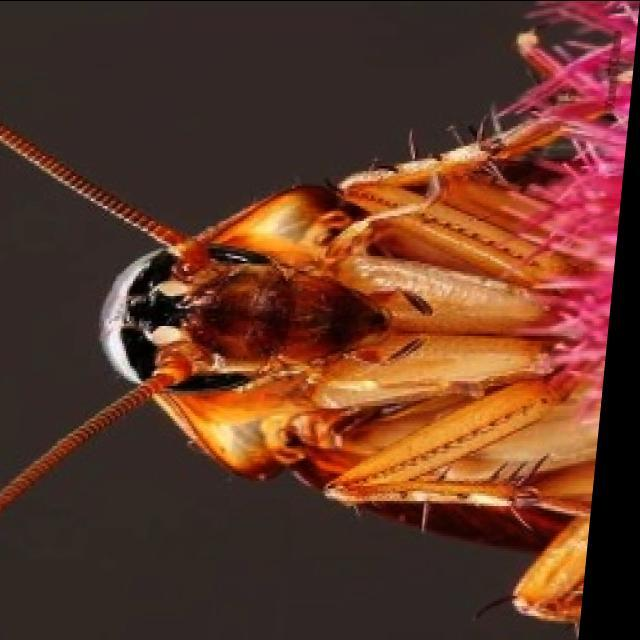cockroach: (12, 119, 640, 627)
